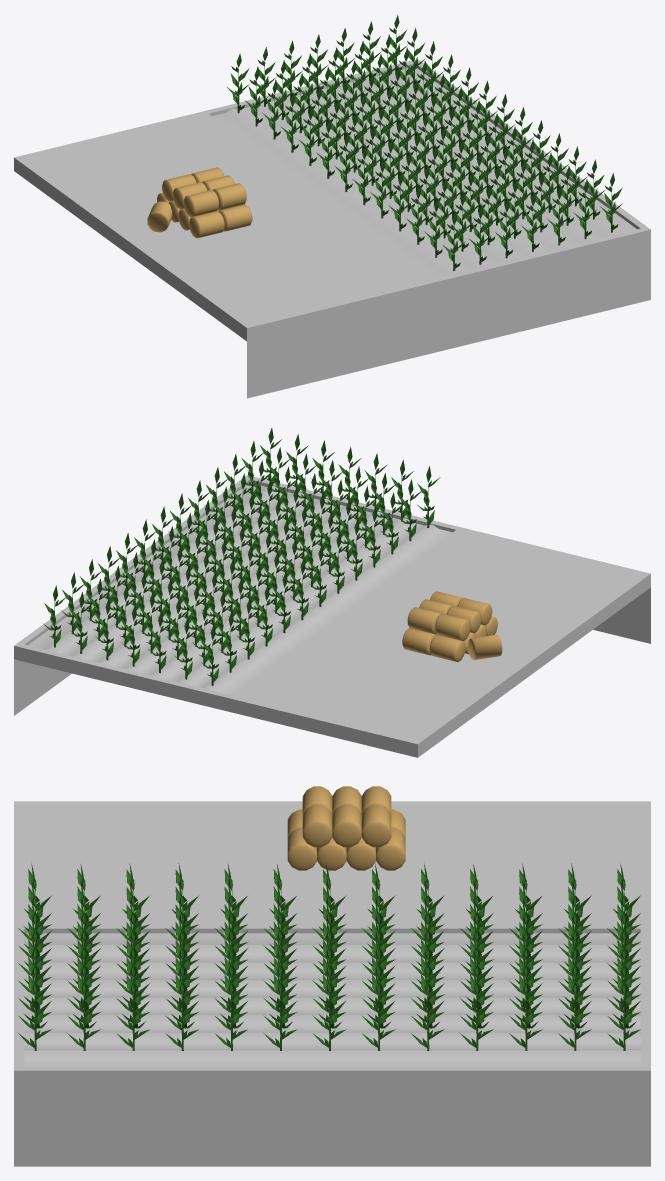
Rendered from CornField.fbx.
The picture shows the model from 3 angles, top to bottom: view 1: azimuth 30°, elevation 25°; view 2: azimuth 150°, elevation 25°; view 3: azimuth 270°, elevation 25°; orthographic projection. The views are drawn at different scales.
Parts seen in each view (by area): view 1: Field, Crops, Bales; view 2: Field, Crops, Bales; view 3: Field, Crops, Bales.
Boxes of the visible parts, x1,y1,x2,y2 form: Field: (14, 59, 650, 398); Crops: (227, 14, 622, 270); Bales: (147, 167, 252, 238); Field: (14, 475, 650, 757); Crops: (43, 428, 440, 685); Bales: (402, 591, 502, 662); Field: (14, 801, 650, 1166); Crops: (18, 863, 640, 1050); Bales: (287, 786, 405, 870).
Bounding box in the file's own units: 1500 × 464 × 1500.
